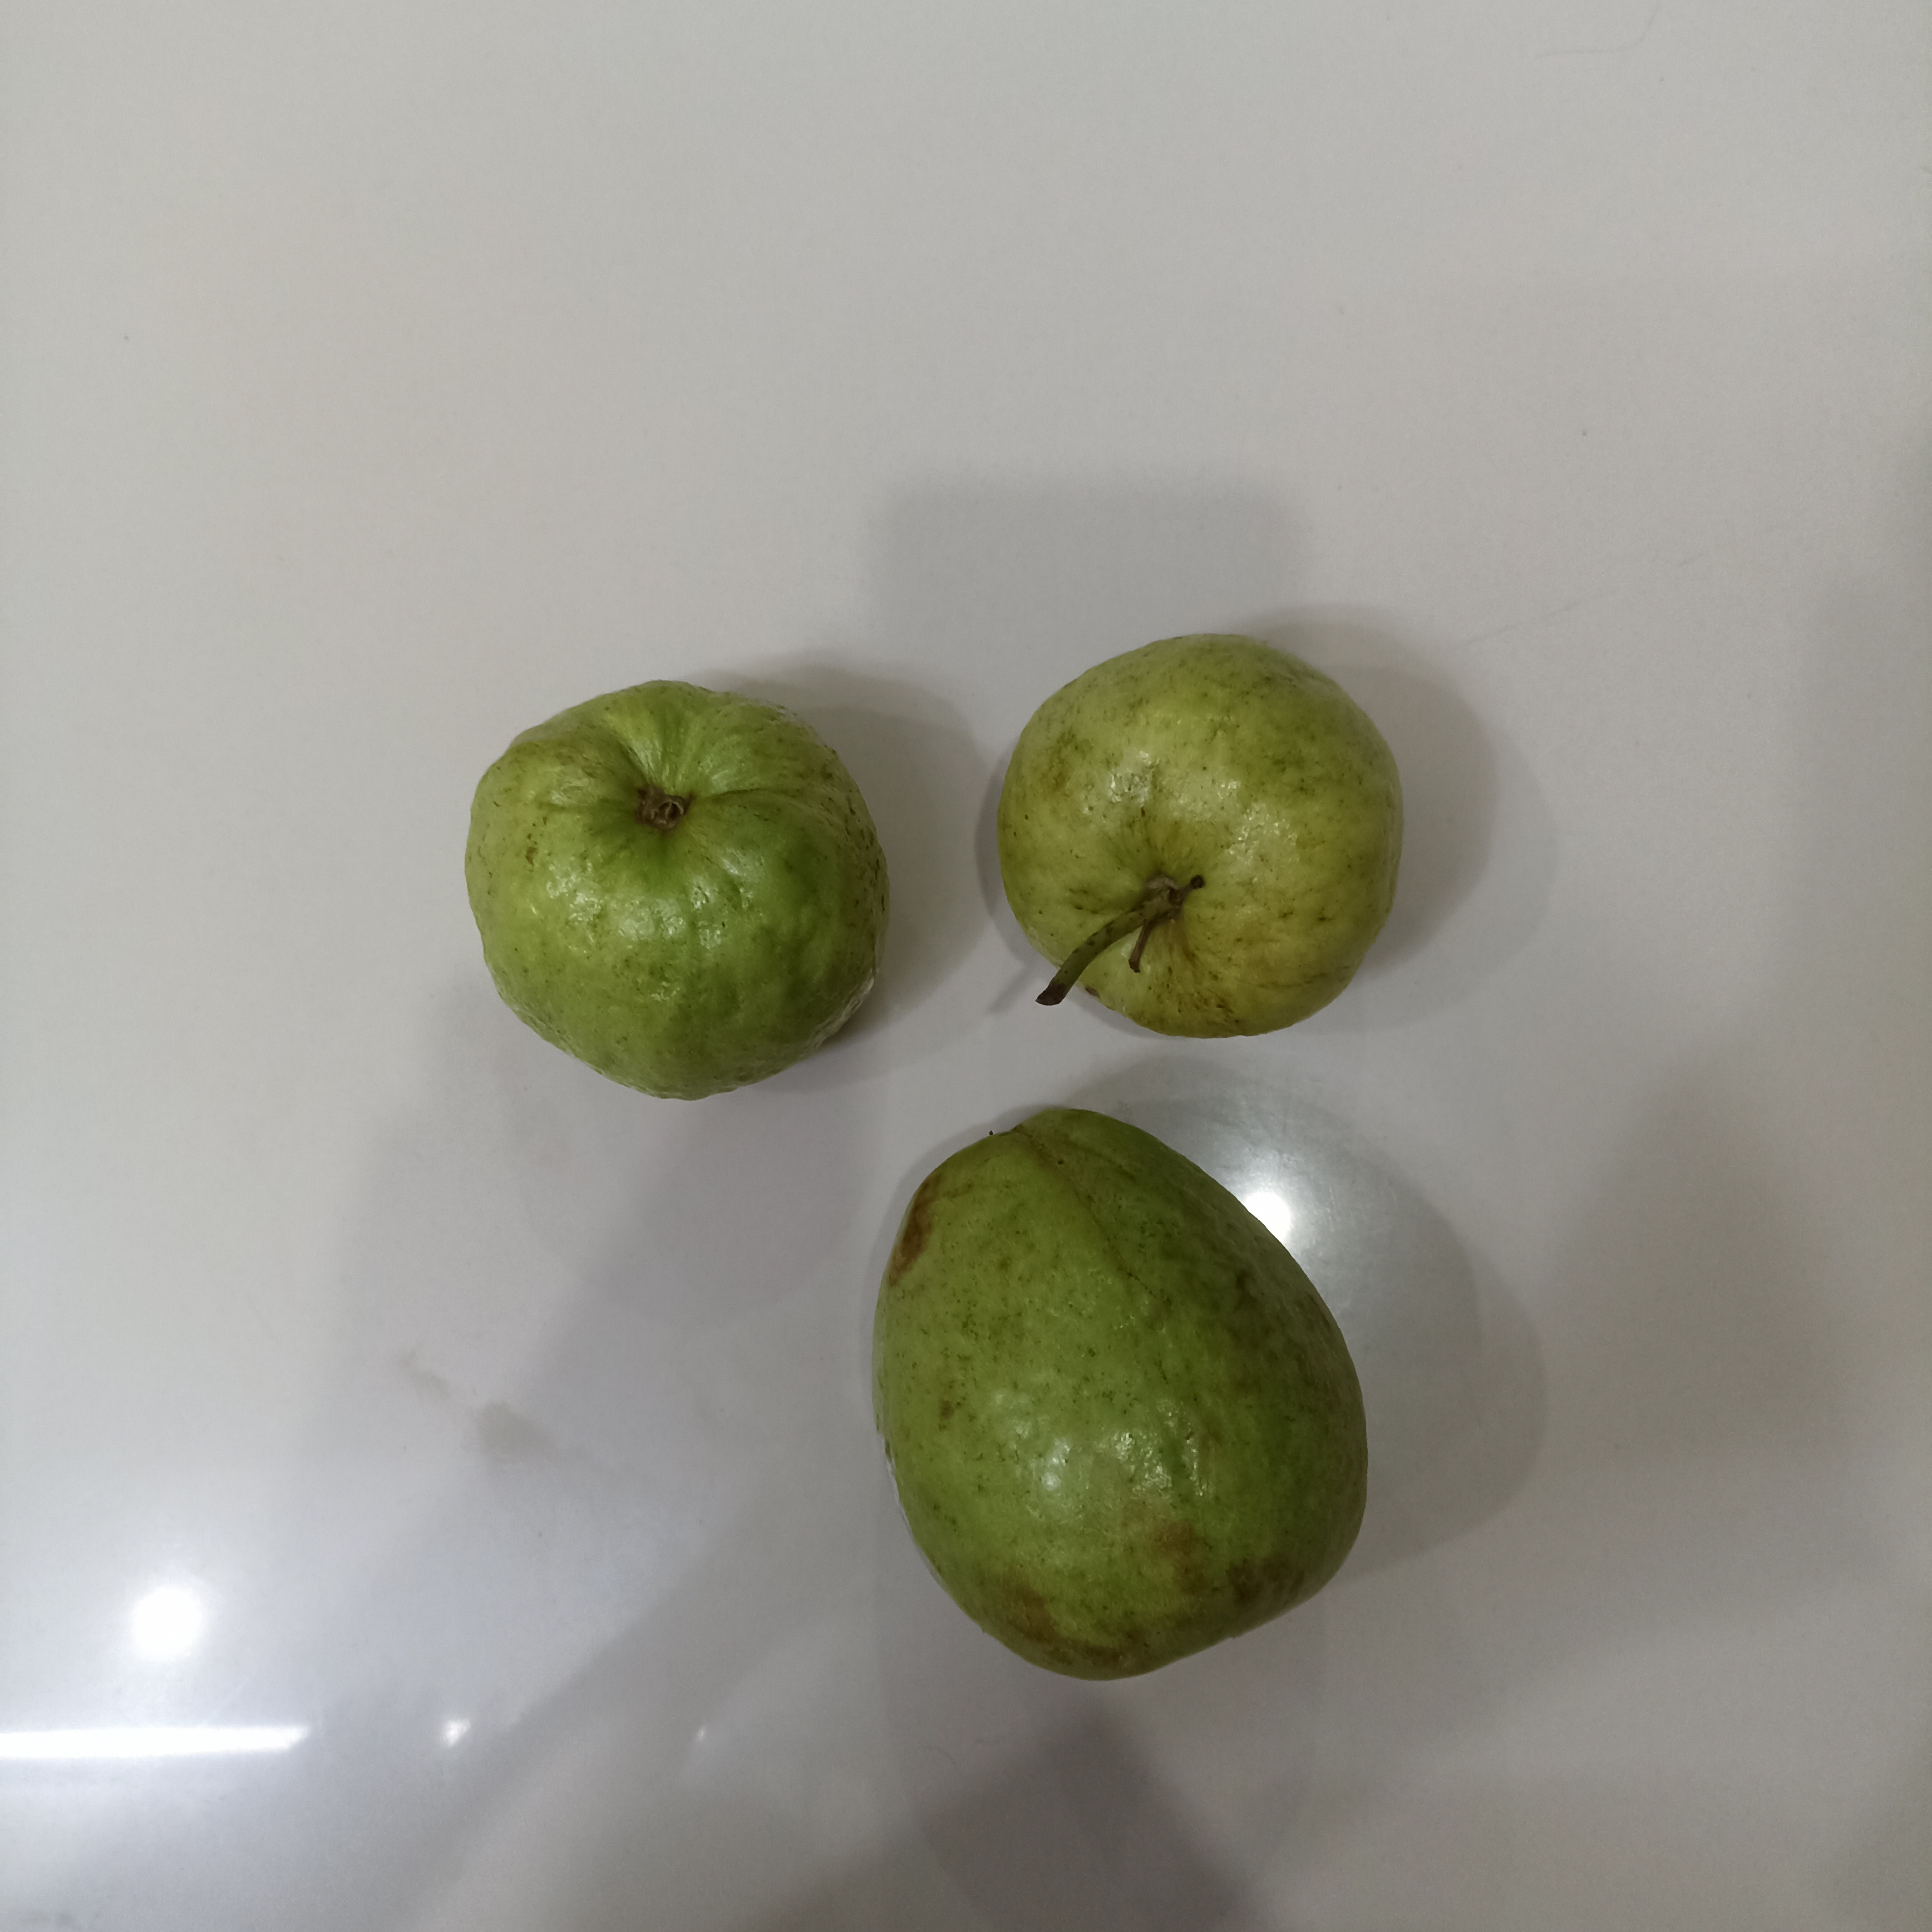Oi: (871, 1102, 1364, 1682), (466, 684, 890, 1097), (989, 630, 1402, 1043)
